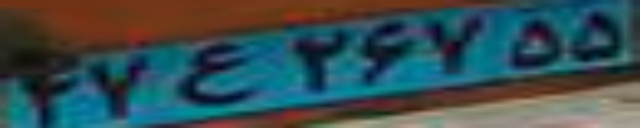2: (293, 30, 346, 93)
4: (17, 64, 73, 126)
5: (568, 12, 625, 62), (507, 19, 564, 67)
6: (357, 20, 414, 85)
7: (86, 55, 148, 119), (424, 13, 485, 77)
ain: (174, 39, 259, 104)
